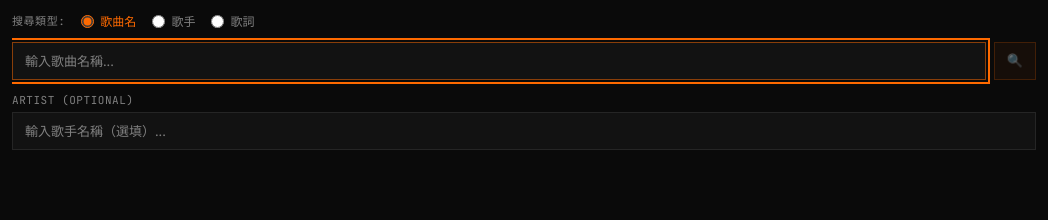
Scenario: LyricsSearchPanel › displays generic error for non-Error exceptions
The width and height of the screenshot is (1048, 220).
Type "Test Query" into the field with placeholder "輸入歌曲名稱..." at (499, 61), box x1=12 y1=42 x2=986 y2=80
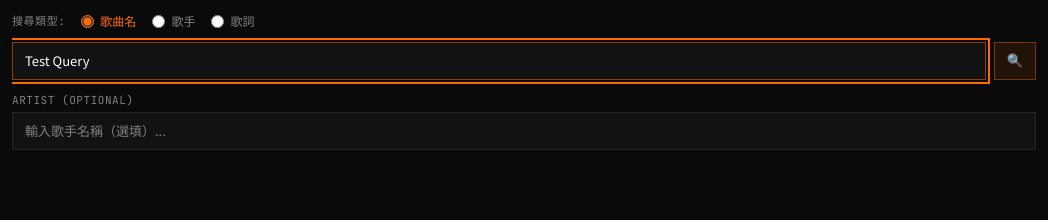
Press Enter in the field with placeholder "輸入歌曲名稱...", box x1=12 y1=42 x2=986 y2=80
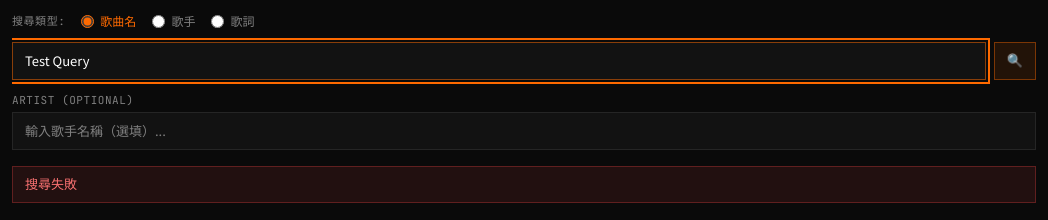
expect the text "搜尋失敗" is shown: met, box x1=12 y1=166 x2=1036 y2=203
